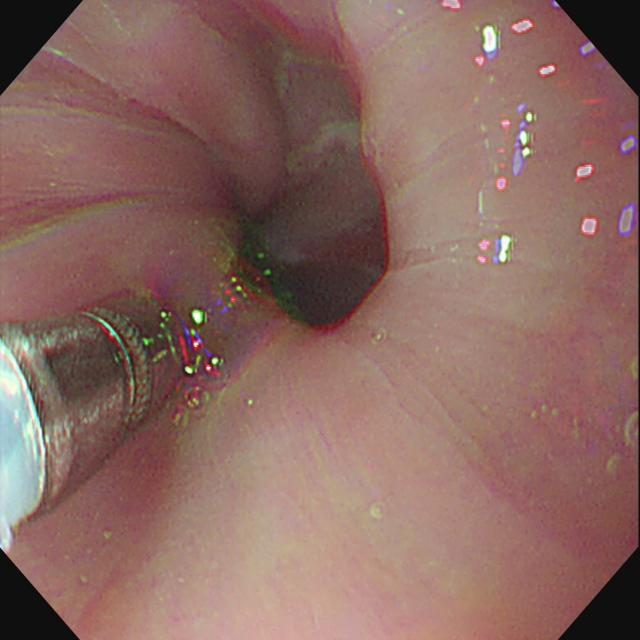E: (242, 247, 384, 346)
K: (2, 289, 188, 552)
U: (185, 311, 224, 380), (513, 105, 538, 179), (477, 234, 515, 265), (476, 25, 501, 68), (620, 206, 635, 236), (582, 219, 600, 238)
